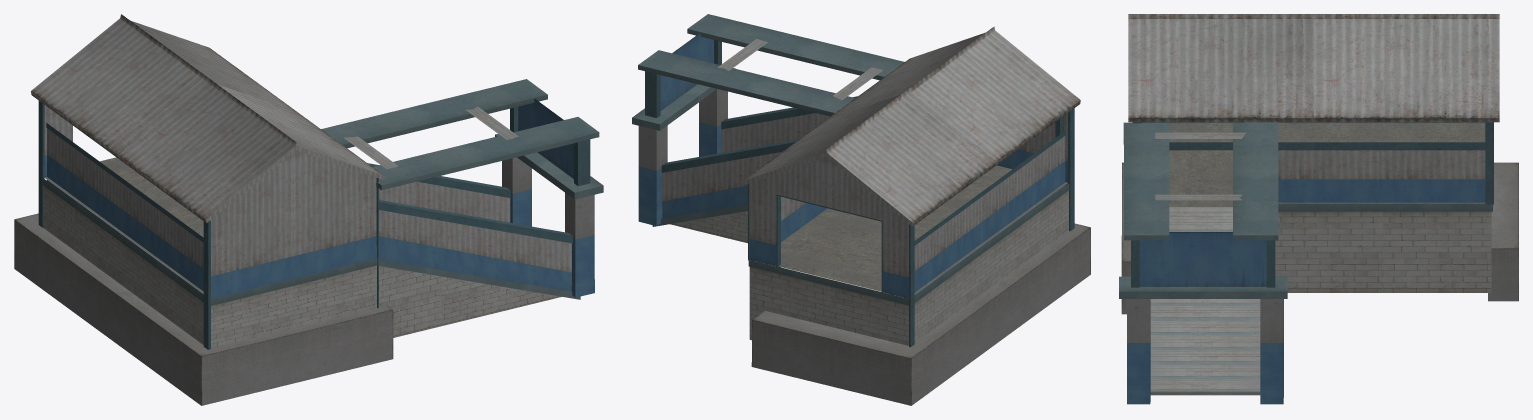
The model's file is Building_Fdc02_2048_lod2.glb.
3 renders of one model, left to right at view 1: azimuth 30°, elevation 25°; view 2: azimuth 150°, elevation 25°; view 3: azimuth 270°, elevation 25°, orthographic. The views are drawn at different scales.
Parts seen in each view (by area): view 1: xiutz_fdc_02_lod2; view 2: xiutz_fdc_02_lod2; view 3: xiutz_fdc_02_lod2.
Boxes of the visible parts, <box> form: xiutz_fdc_02_lod2: <box>14,14,603,405</box>; xiutz_fdc_02_lod2: <box>632,14,1090,405</box>; xiutz_fdc_02_lod2: <box>1119,14,1518,404</box>.
Bounding box in the file's own units: 21.73 × 12.31 × 17.71.
Materials: 1 (1 with a texture image).
